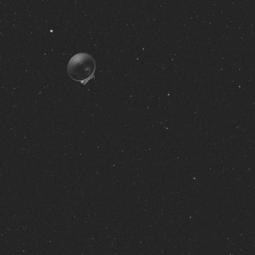debris: (66, 48, 99, 92)
